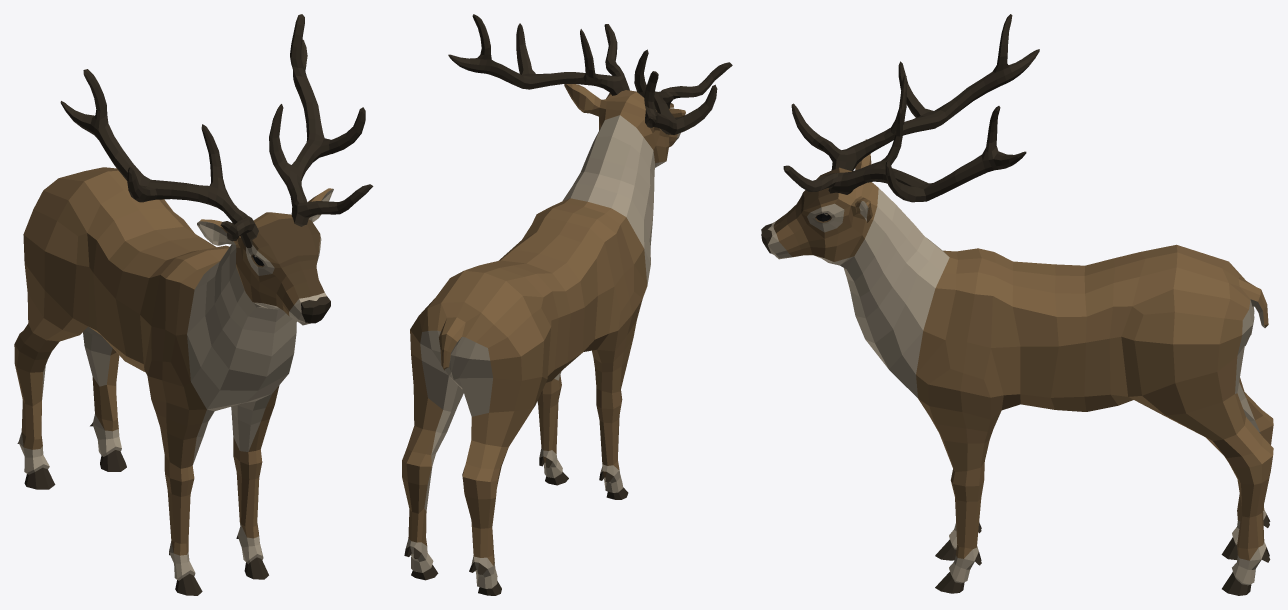
The model's file is mountain-animals.glb.
The picture shows the model from 3 angles, left to right: view 1: azimuth 30°, elevation 25°; view 2: azimuth 150°, elevation 25°; view 3: azimuth 270°, elevation 25°; orthographic projection. The views are drawn at different scales.
Parts seen in each view (by area): view 1: Stag, Stag_Horns; view 2: Stag, Stag_Horns; view 3: Stag, Stag_Horns.
Part boxes in pixels (left/top/right/bottom): Stag: left=14, top=167, right=333, bottom=595; Stag_Horns: left=60, top=14, right=373, bottom=247; Stag: left=402, top=84, right=685, bottom=595; Stag_Horns: left=448, top=14, right=732, bottom=134; Stag: left=761, top=139, right=1273, bottom=595; Stag_Horns: left=783, top=14, right=1039, bottom=202.
Bounding box in the file's own units: 2.56 × 5.37 × 4.84.
